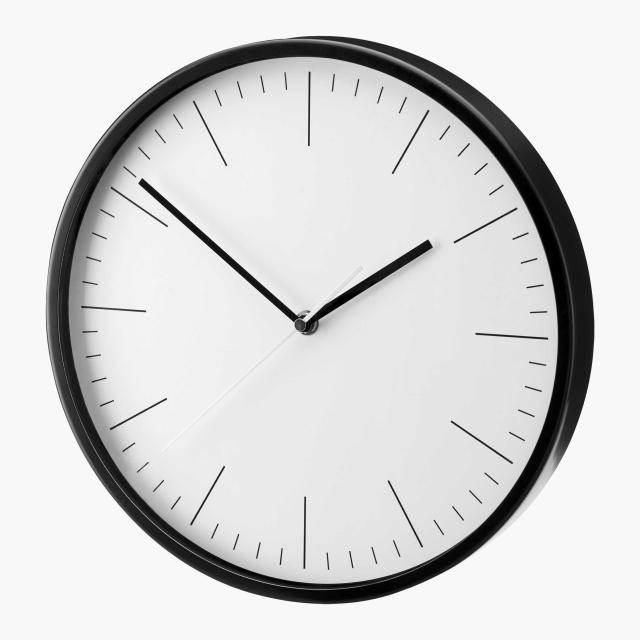clock: (0, 0, 580, 640)
